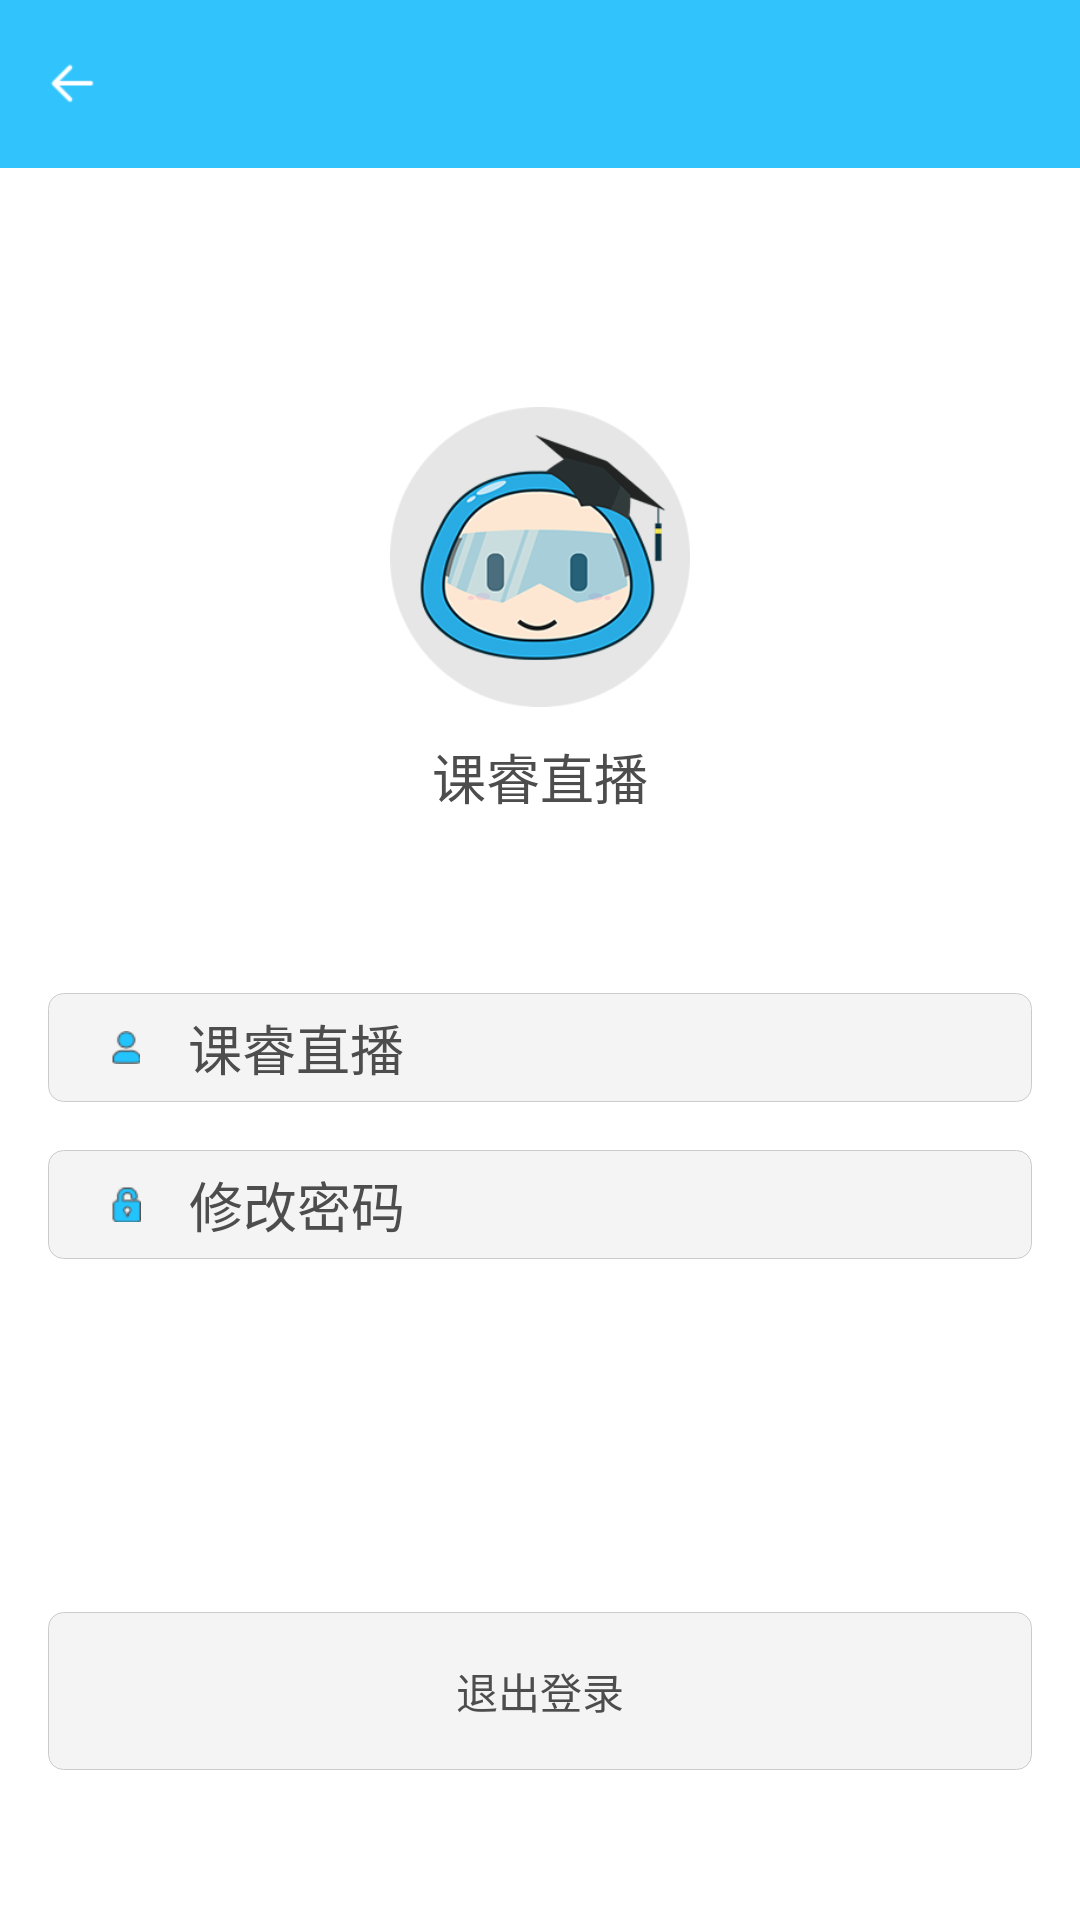

Named icons in this screenshot (1080px×1920px) and their bounding boxes, (x1, y1, x2, y2):
back: (51, 64, 94, 102)
